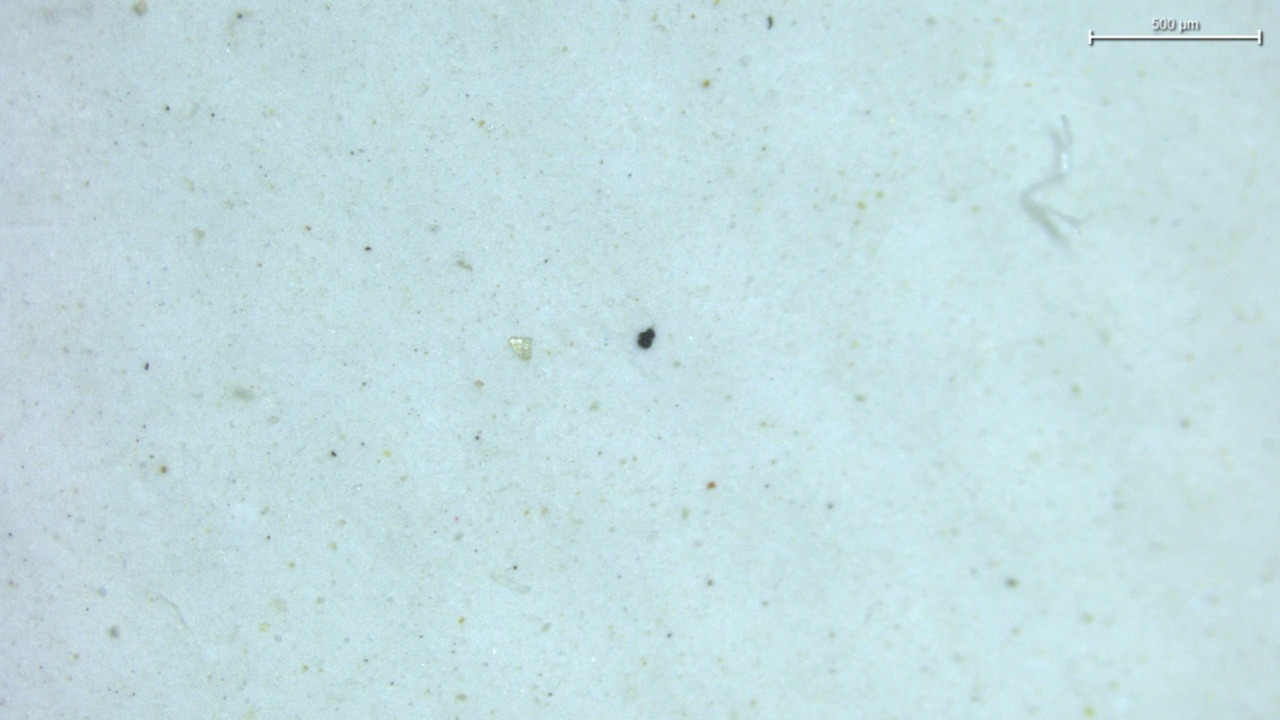microplastic_fragment: (509, 337, 531, 360)
